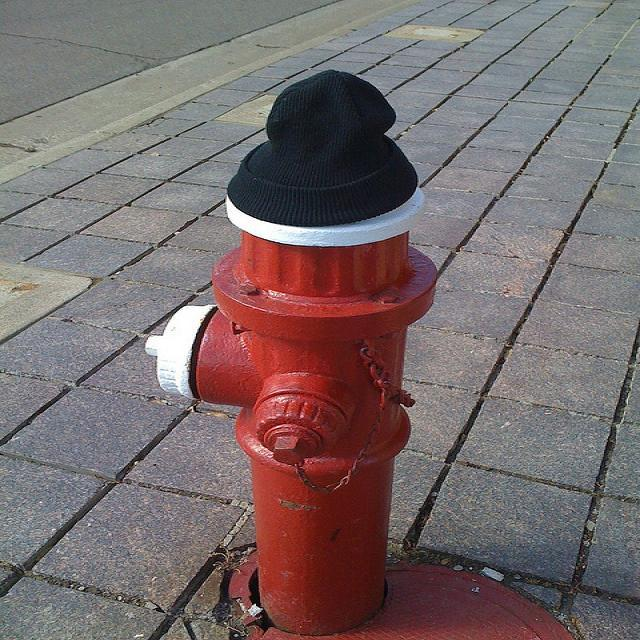fire_hydrant: (145, 67, 443, 629)
